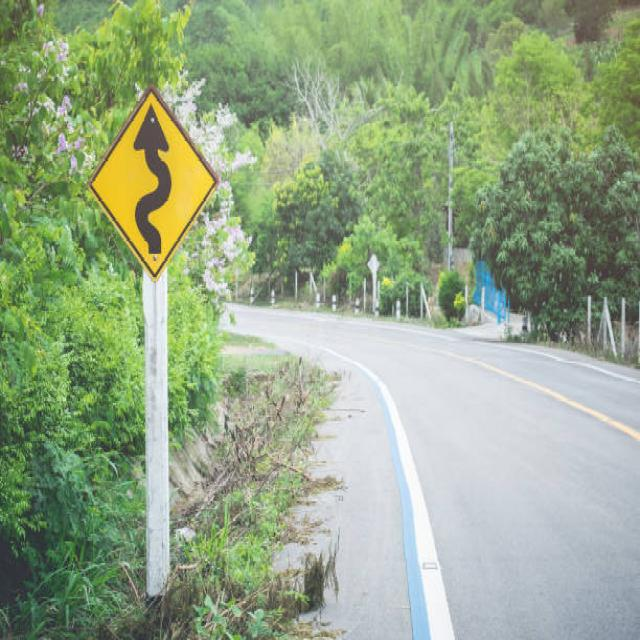left_sharp_curve: (86, 82, 220, 285)
